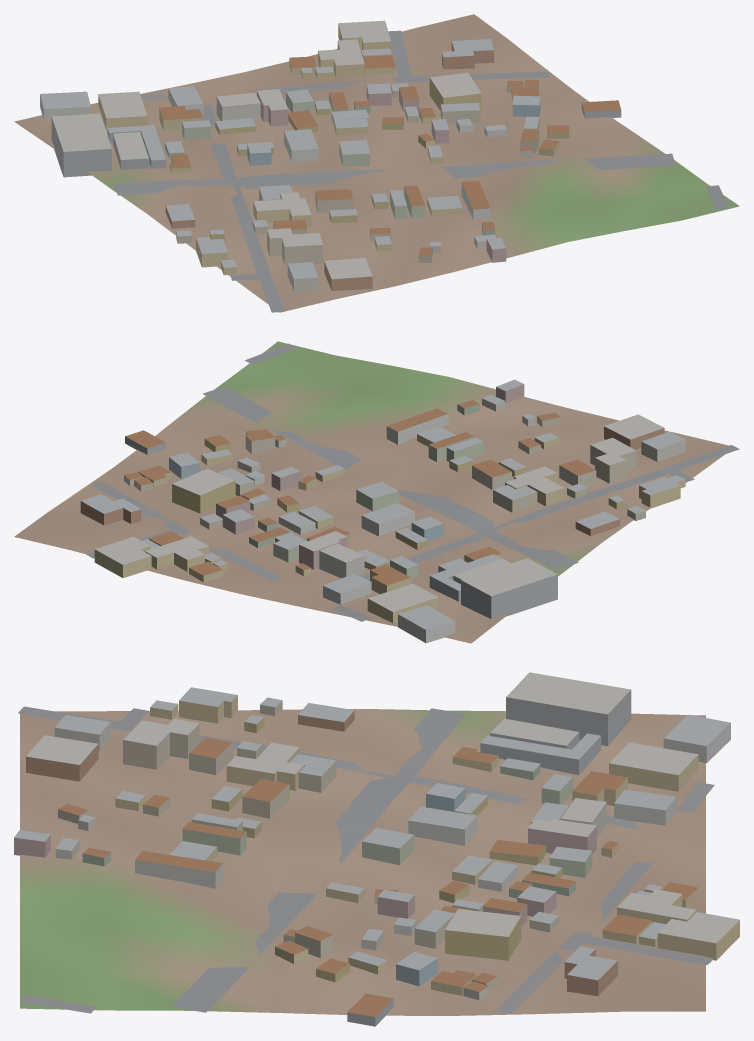
The picture shows the model from 3 angles, top to bottom: view 1: azimuth 30°, elevation 25°; view 2: azimuth 150°, elevation 25°; view 3: azimuth 270°, elevation 25°; orthographic projection. The views are drawn at different scales.
Visible parts, largest first — view 1: Lo; view 2: Lo; view 3: Lo.
Boxes of the visible parts, bbox=[...] form: Lo: bbox=[14, 14, 739, 312]; Lo: bbox=[14, 341, 739, 643]; Lo: bbox=[14, 672, 739, 1026].
Bounding box in the file's own units: 275 × 17.46 × 271.
